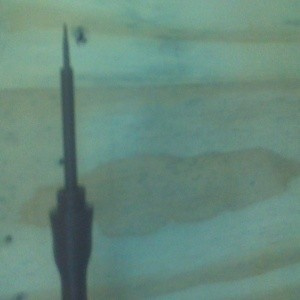solder: (47, 21, 95, 300)
